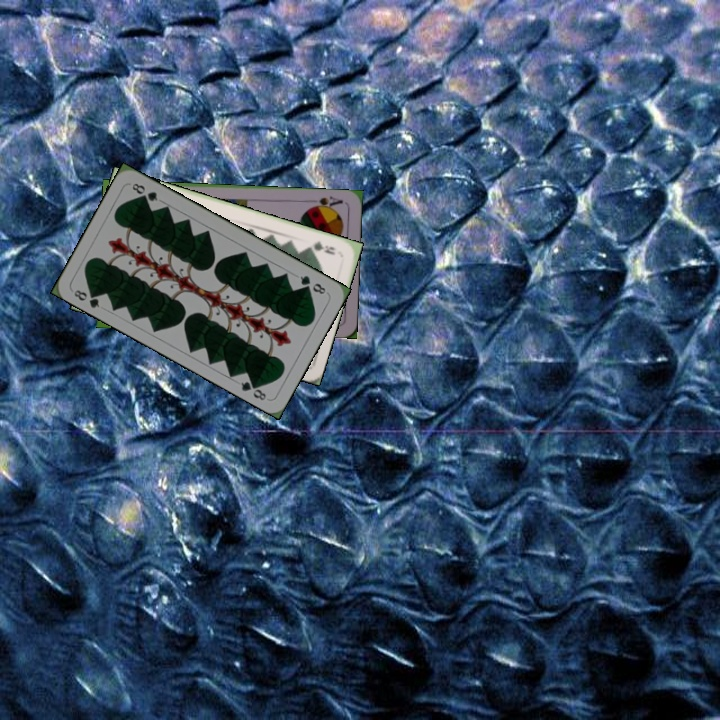G8: (296, 271, 329, 297), (70, 286, 102, 311)
G9: (304, 237, 338, 257)
SA: (305, 192, 345, 212)
